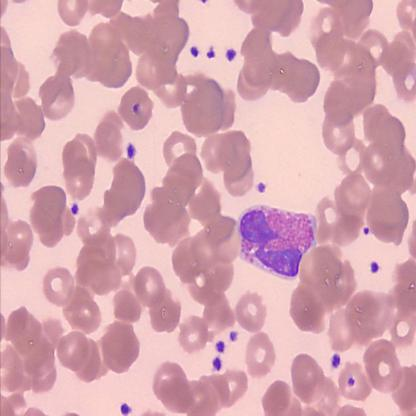Eosinophil: (238, 204, 317, 280)
